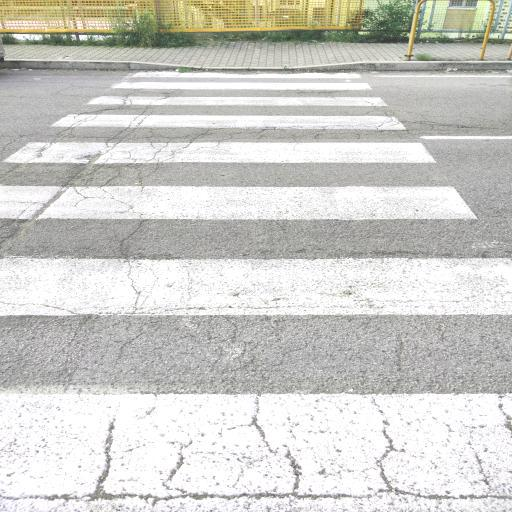crosswalk: (1, 132, 485, 232), (80, 80, 396, 113)
